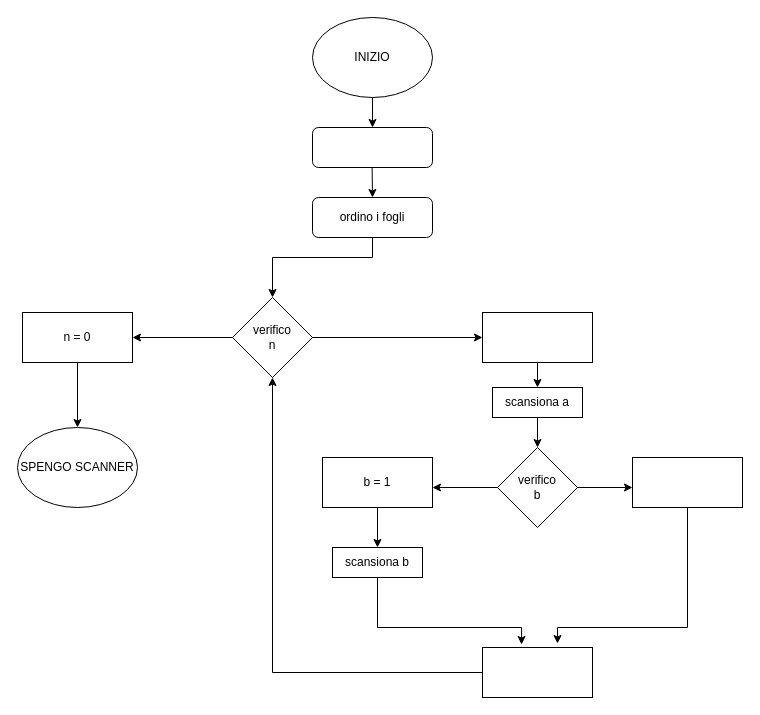
The diagram is 760 pixels wide and 715 high, and some of its shapes have lost their labels. Each missing label, with the centre of its shape:
"accendo scanner" goes at (372,147).
"b = 0" goes at (687,482).
"n - 1" goes at (537,672).
"n > 0" goes at (537,337).
